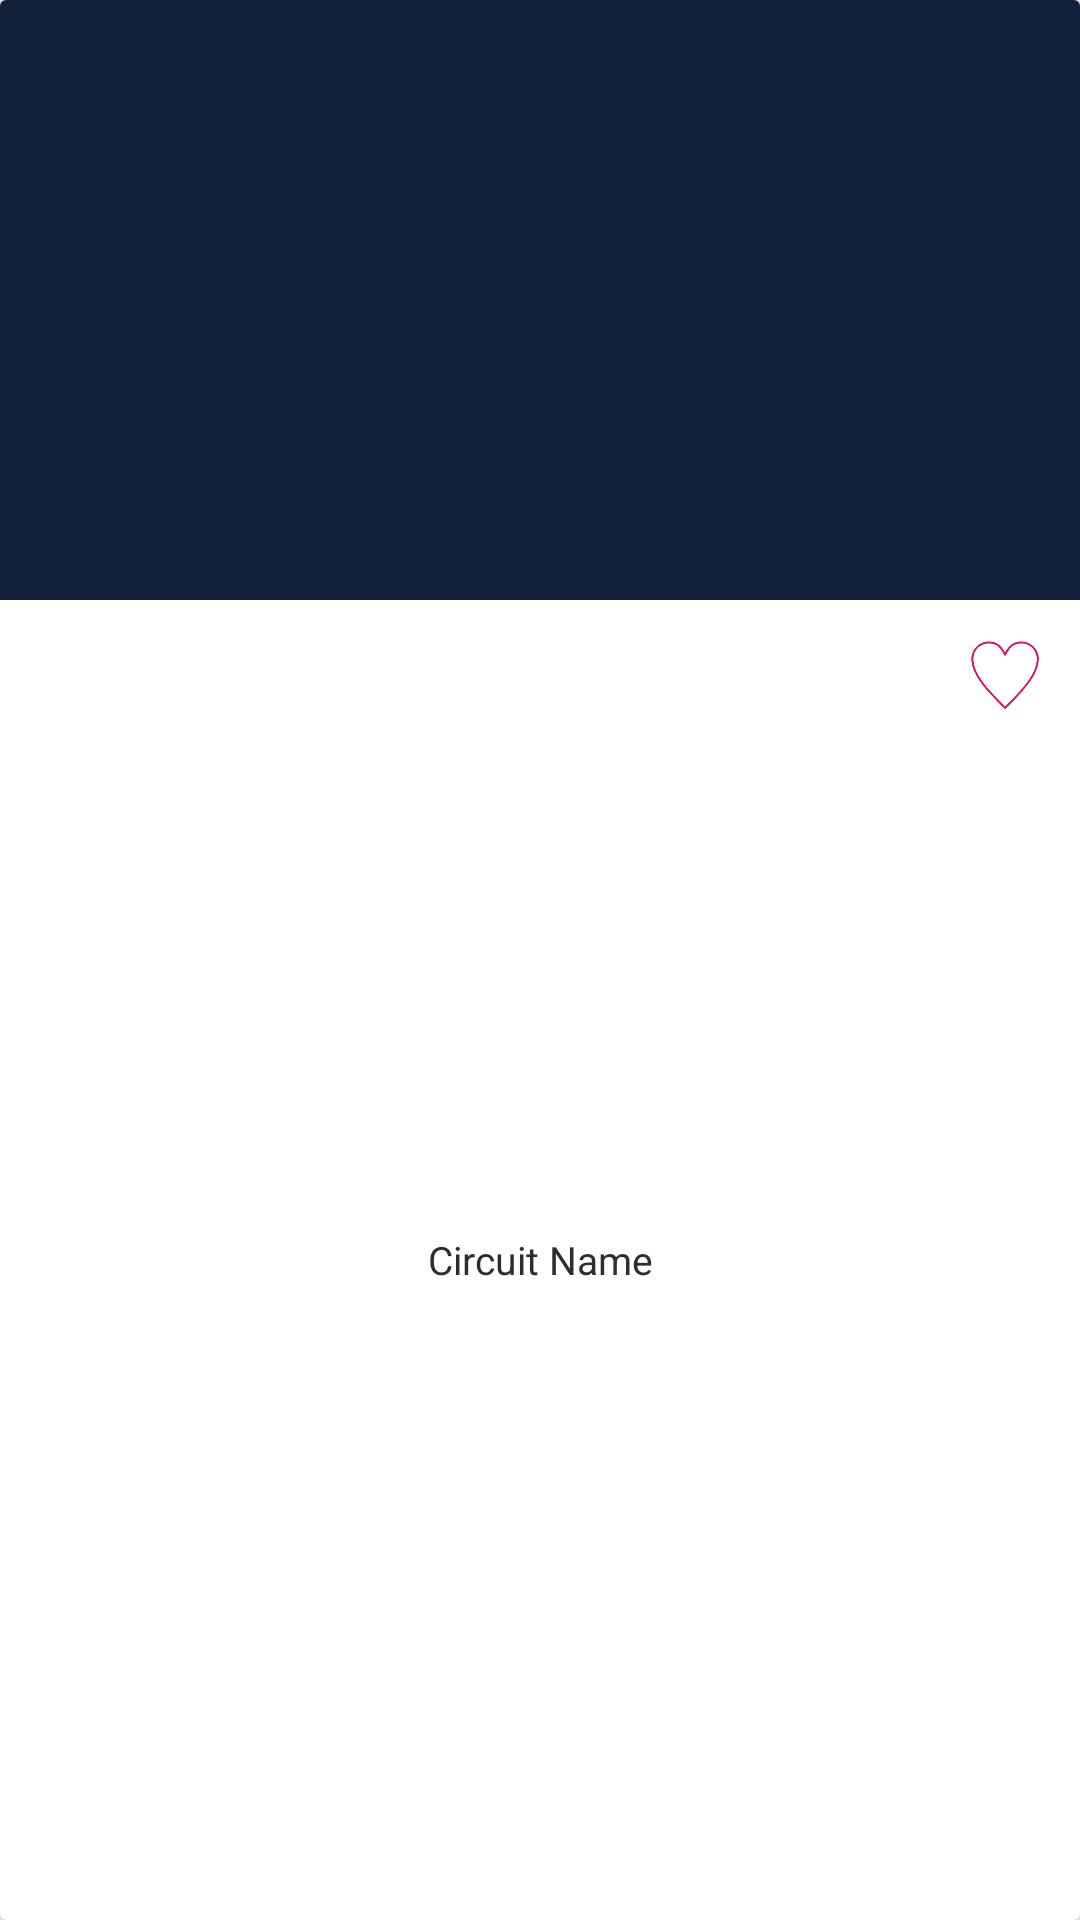

Point at icon controls on the screen. Image size 1080 x 1920, points as (x=x, y=y).
Favorite: (x=1005, y=675)
